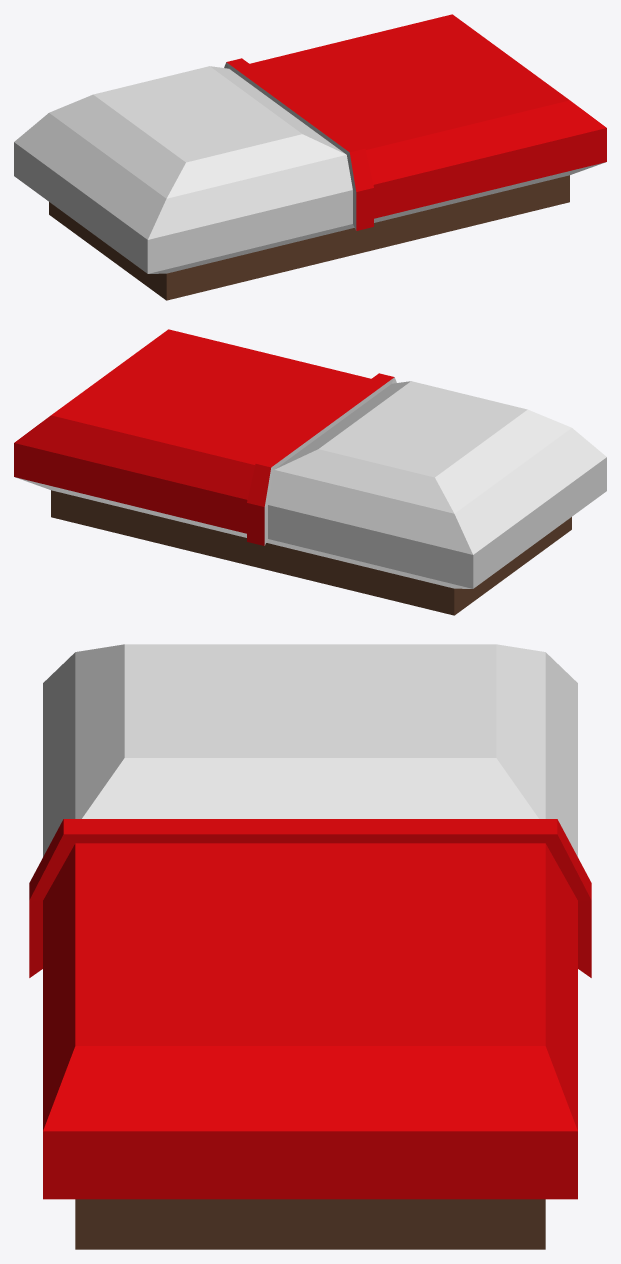
Rendered from Bed.fbx.
3 views of the same model, one above another, from view 1: azimuth 30°, elevation 25°; view 2: azimuth 150°, elevation 25°; view 3: azimuth 270°, elevation 25° (orthographic). The views are drawn at different scales.
Visible parts, largest first — view 1: Cube.001; view 2: Cube.001; view 3: Cube.001.
Boxes of the visible parts, x1,y1,x2,y2 form: Cube.001: (14, 14, 606, 300); Cube.001: (14, 329, 606, 615); Cube.001: (29, 644, 591, 1249).
Bounding box in the file's own units: 451 × 114 × 239.
